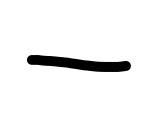minus: (27, 54, 131, 72)
